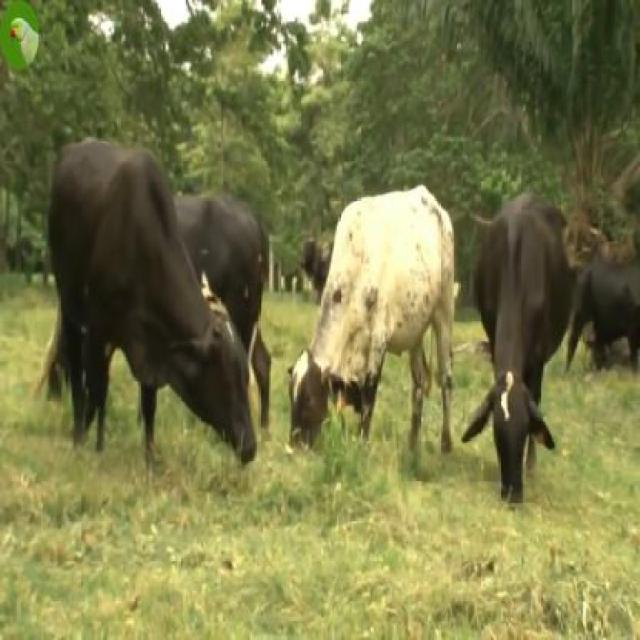Cow: (48, 137, 258, 468), (290, 186, 458, 457), (462, 192, 572, 503)
